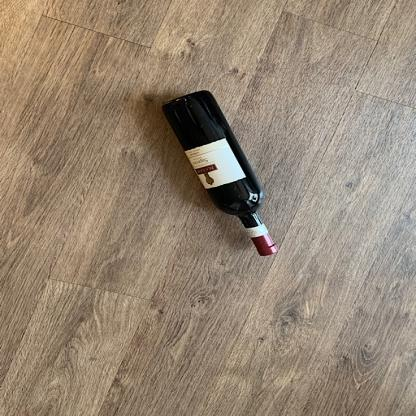trash: (161, 90, 275, 258)
